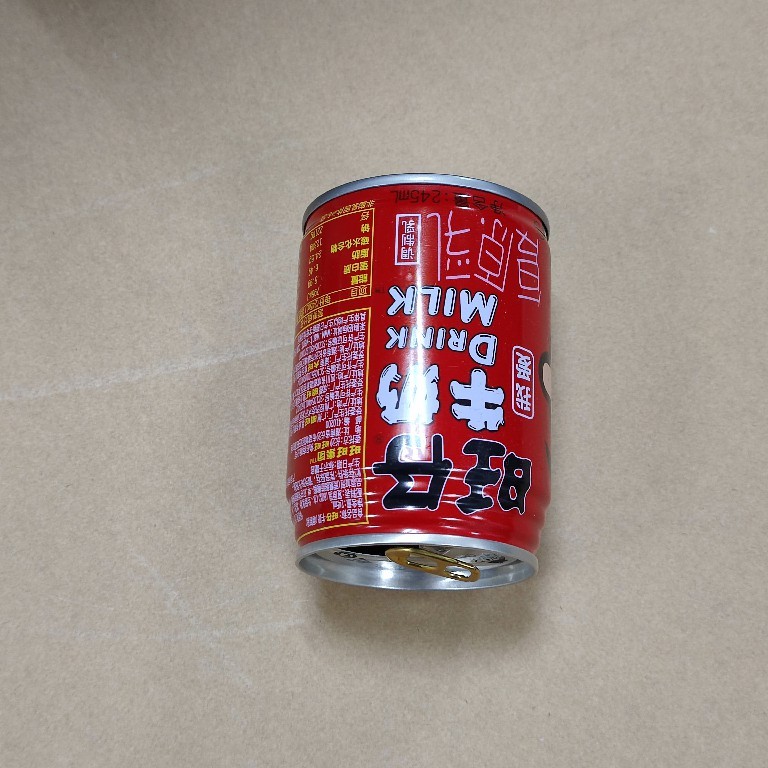can: (283, 170, 556, 597)
